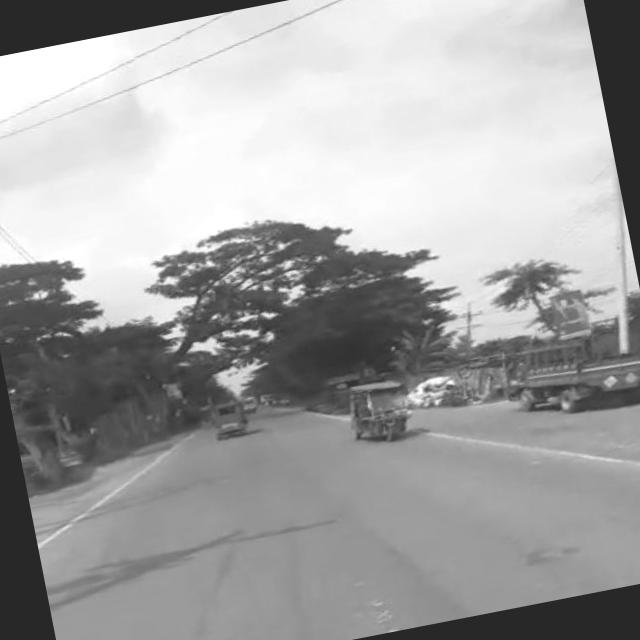motorcycle: (342, 373, 414, 442), (206, 396, 250, 438)
truck: (495, 326, 640, 428)
